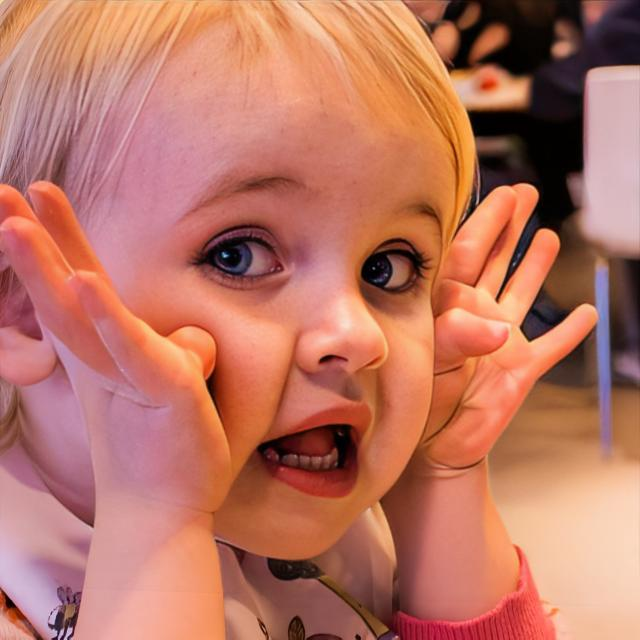surprise: (56, 29, 446, 560)
